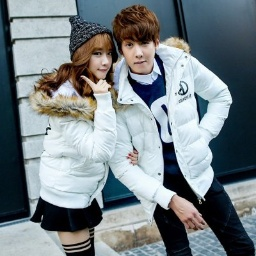face: (113, 4, 159, 77), (65, 26, 115, 87)
